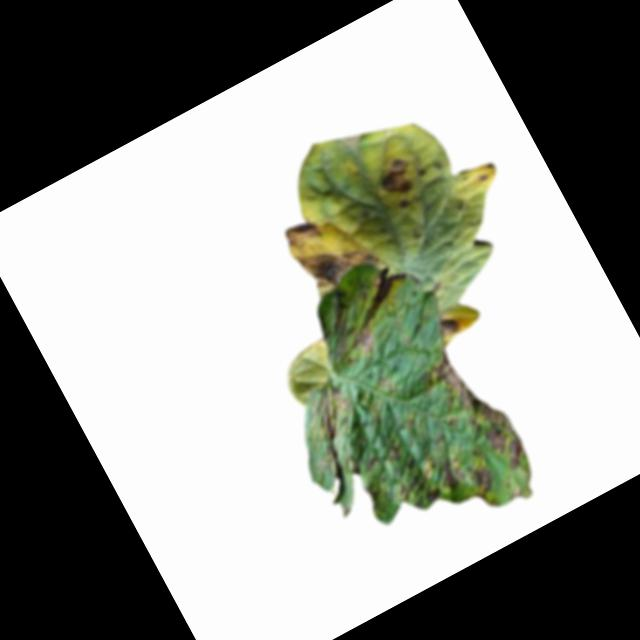Early_blight: (424, 336, 535, 484), (328, 262, 428, 358), (296, 223, 384, 300), (388, 444, 470, 514), (371, 154, 420, 204), (281, 212, 329, 253), (465, 464, 498, 501), (434, 314, 464, 343), (396, 196, 413, 213)
